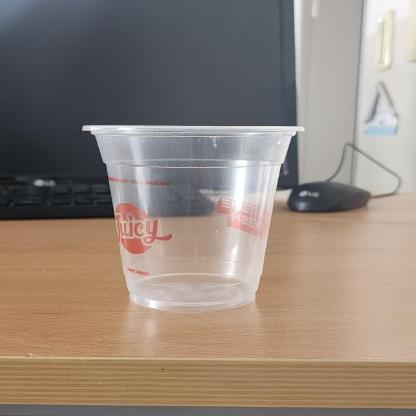Plastic Cup: (80, 122, 304, 312)
